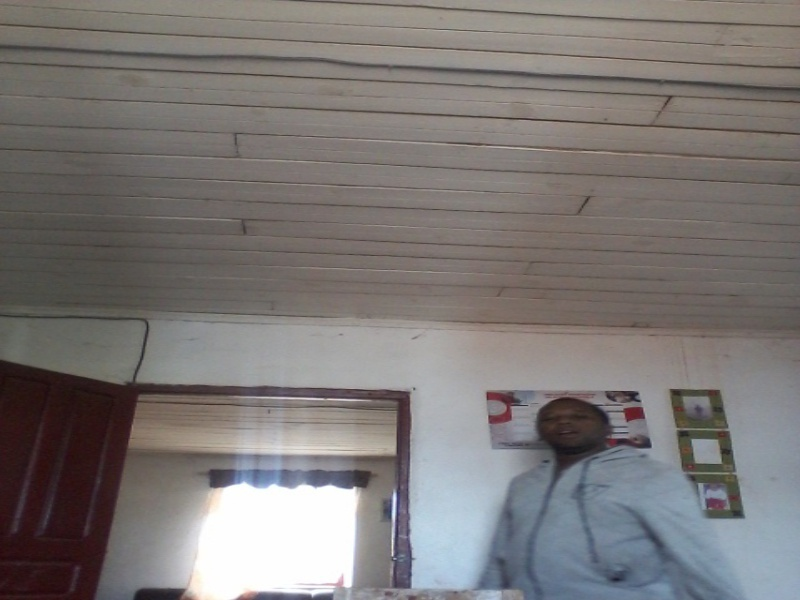TsisyArotava: (534, 391, 620, 470)
